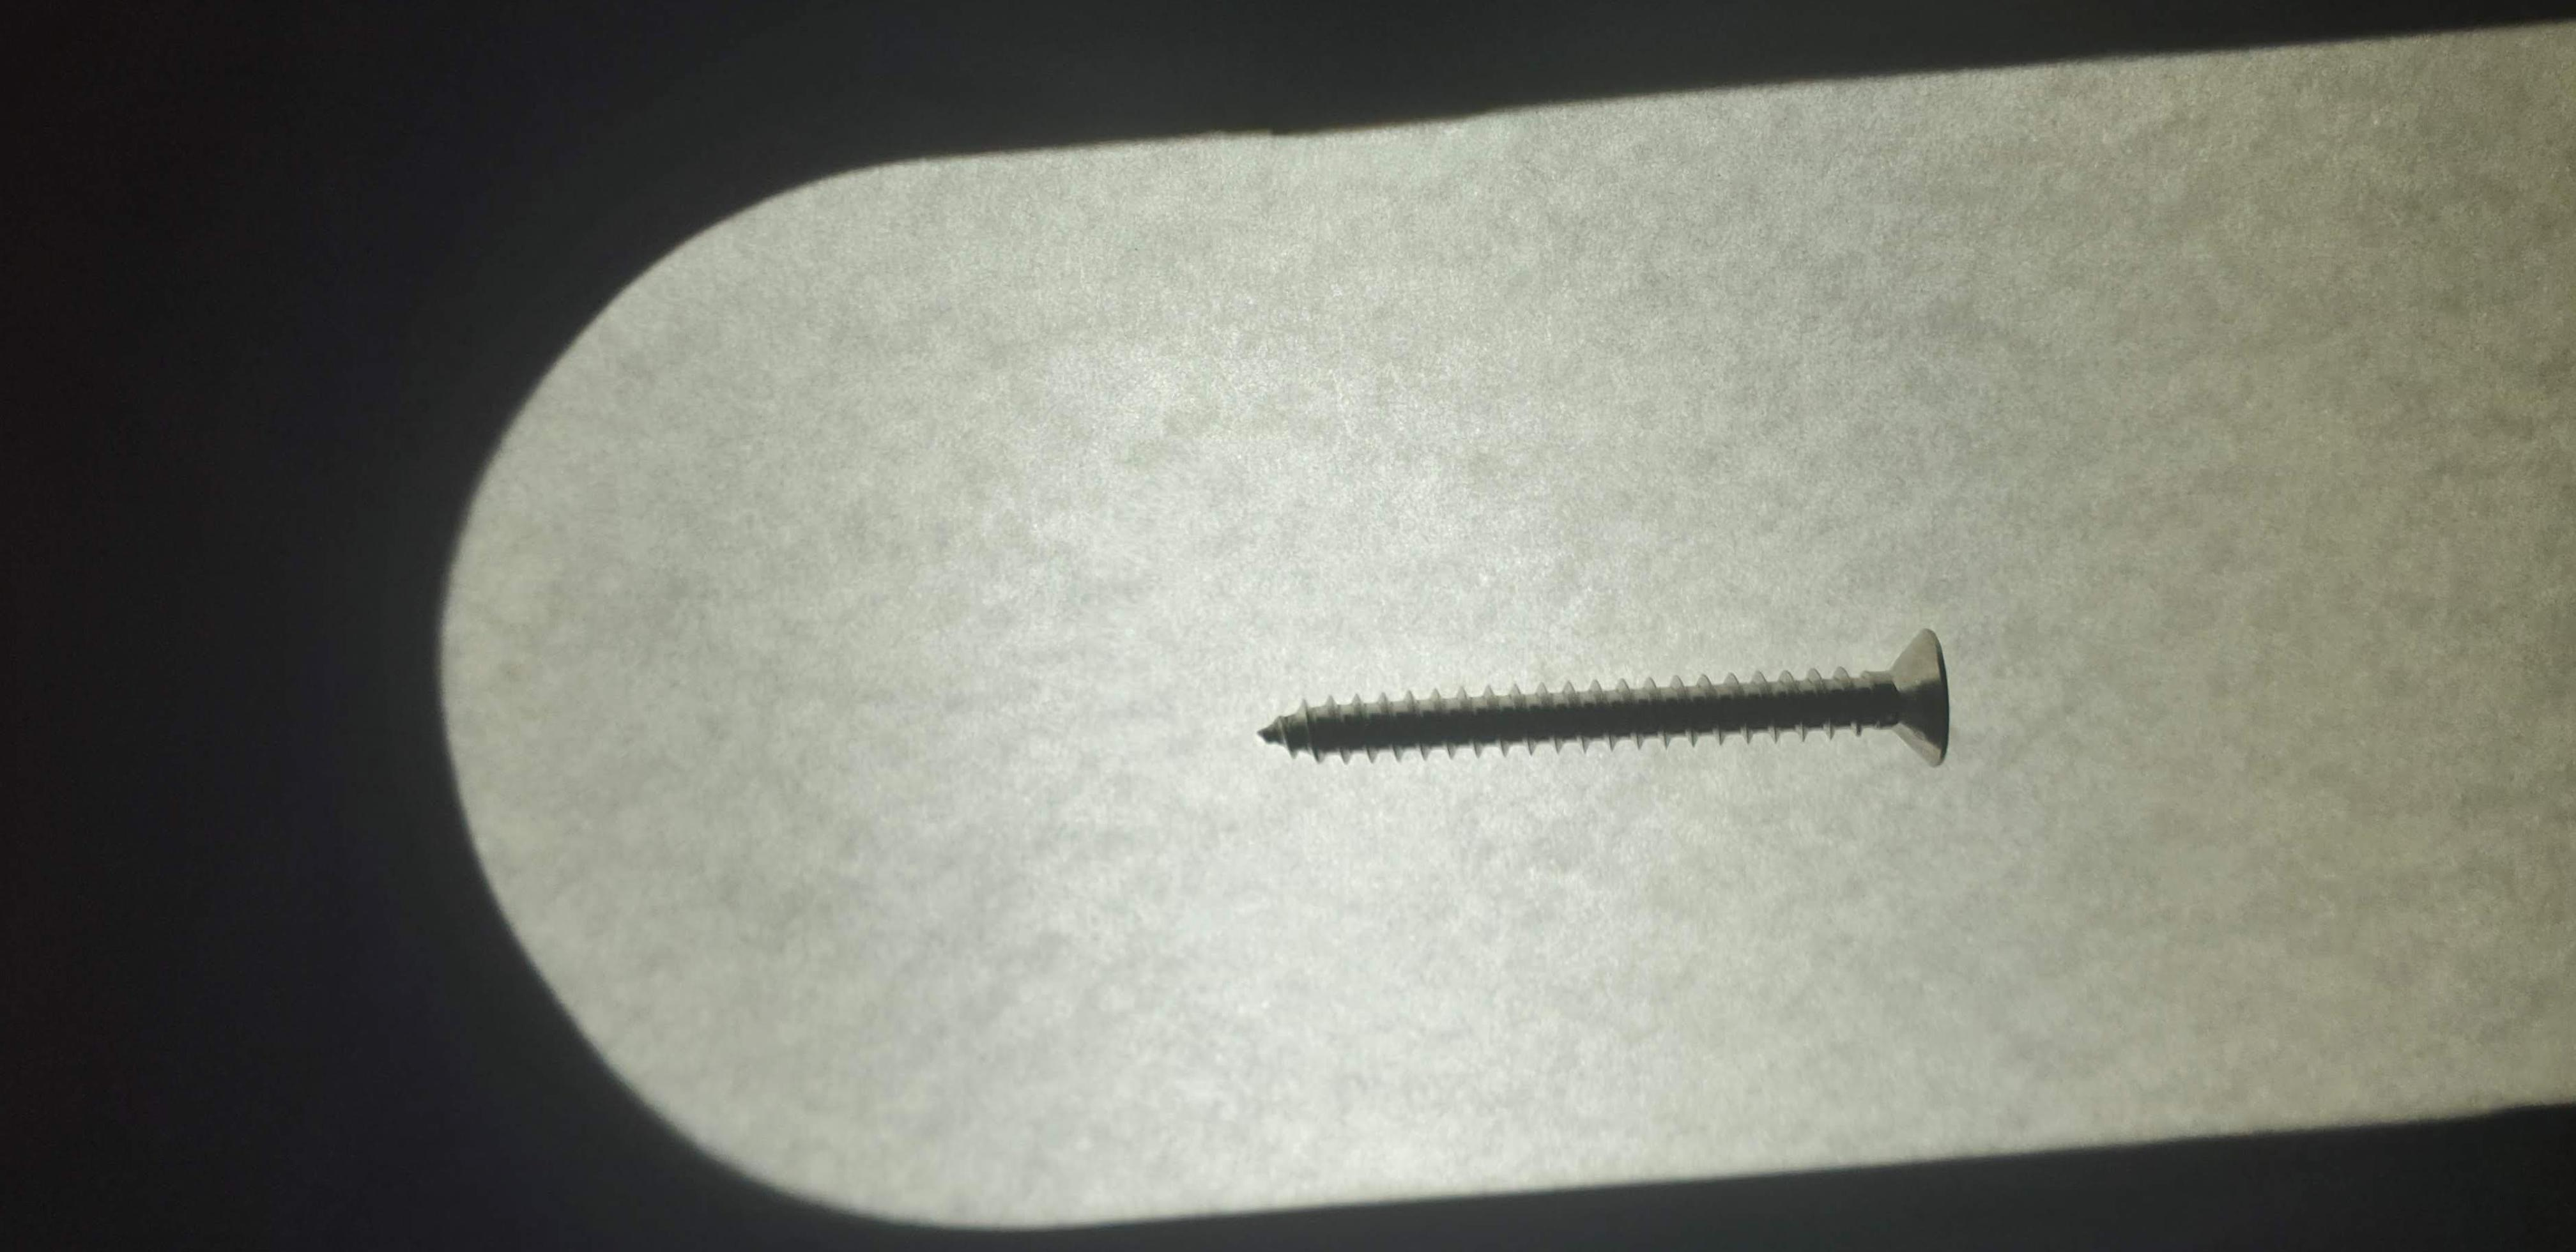S001: (1234, 591, 2004, 828)
